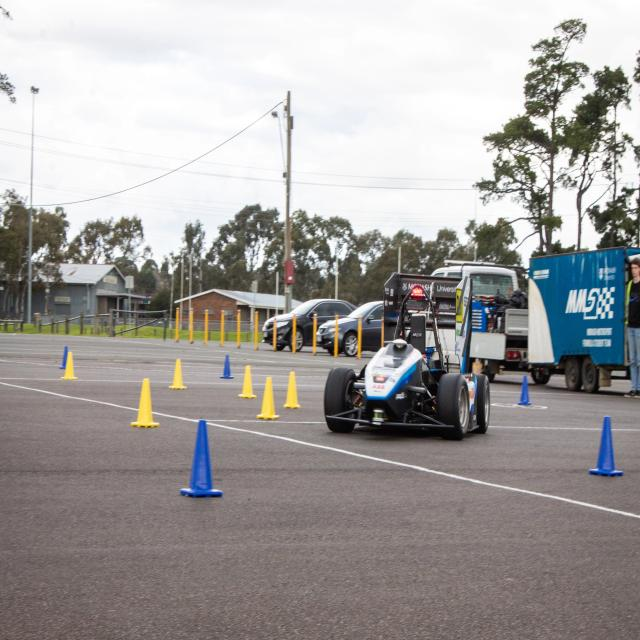blue_cone: (180, 421, 223, 496), (588, 416, 624, 476), (518, 375, 532, 405), (220, 354, 234, 378), (60, 346, 70, 369)
yellow_cone: (130, 378, 160, 427), (257, 378, 279, 418), (283, 371, 301, 409), (168, 359, 188, 390), (239, 366, 256, 398), (61, 352, 78, 379)
